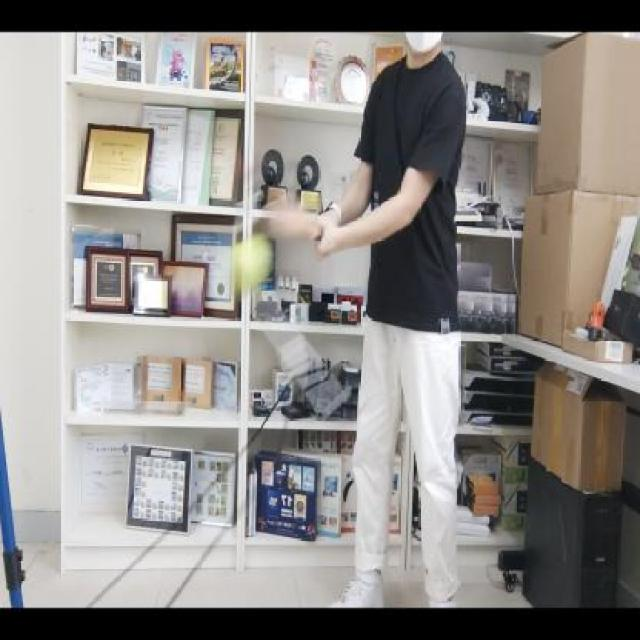baseball: (218, 231, 276, 298)
